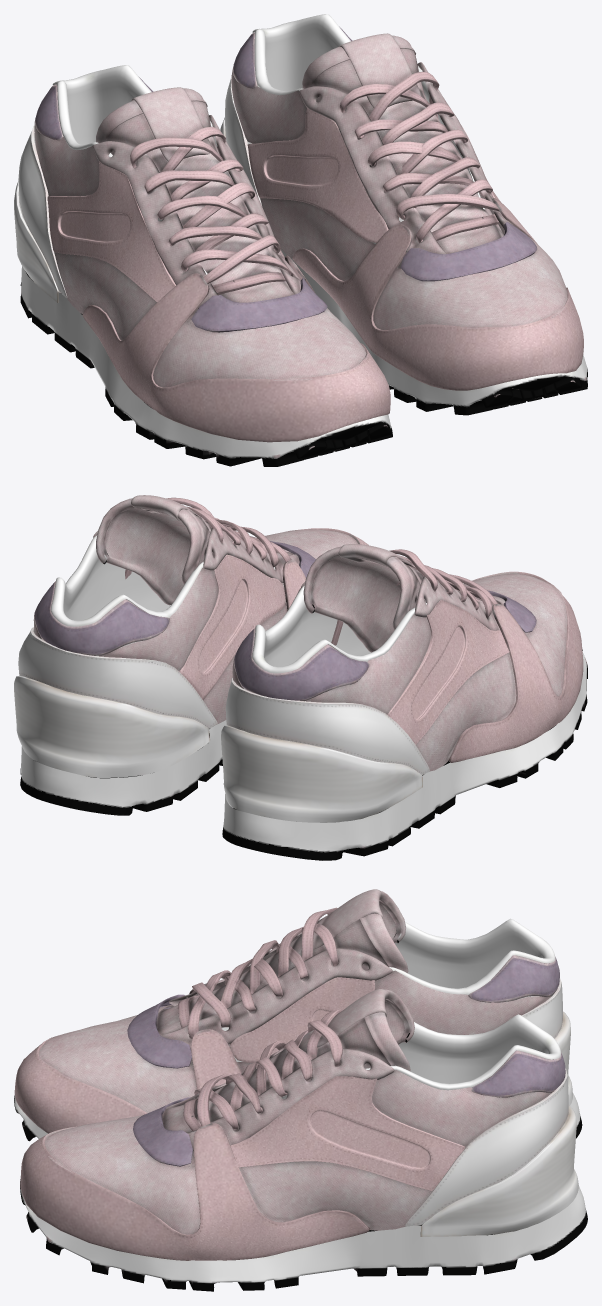
Rendered from male_shoes.fbx.
The picture shows the model from 3 angles, top to bottom: view 1: azimuth 30°, elevation 25°; view 2: azimuth 150°, elevation 25°; view 3: azimuth 270°, elevation 25°; orthographic projection. The views are drawn at different scales.
Parts seen in each view (by area): view 1: Reebook; view 2: Reebook; view 3: Reebook.
Part boxes in pixels (<box>): Reebook: <box>14,14,587,466</box>; Reebook: <box>14,495,587,860</box>; Reebook: <box>14,889,587,1291</box>.
Size of the model in its own units: 26.41 by 15.14 by 32.07.
Materials: 1 (1 with a texture image).
